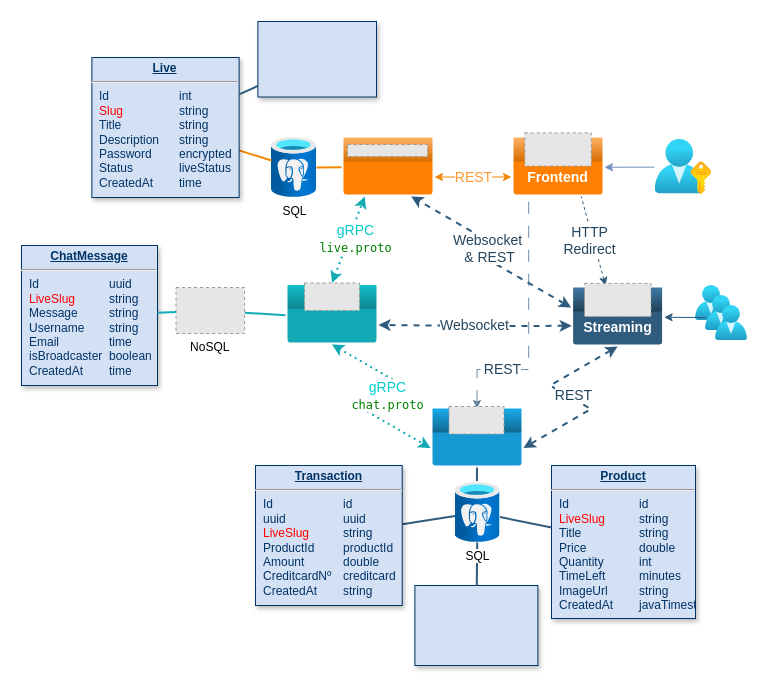
This 765x690 diagram has some shape labels left out. Grey dashed boxes stand in for pictures. The shapes that lost their labels are listed below. From the top down, each one's centre as x and y in pixels, then its label:
(317,60): LiveStatus AVAILABLE string DONE string
(387,176): Manager
(331,324): Chat
(476,447): Store
(477,626): LiveStatement Id id LiveSlug string Total d ouble
